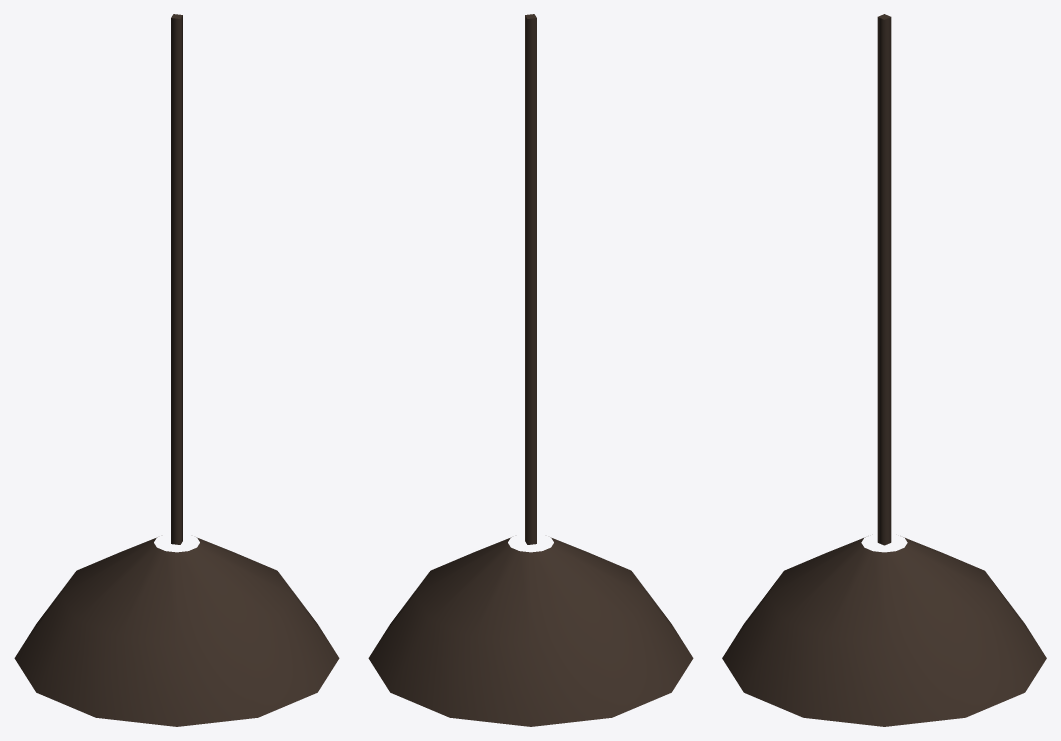
The model's file is cantina_hanging_lamp.glb.
The picture shows the model from 3 angles, left to right: view 1: azimuth 30°, elevation 25°; view 2: azimuth 150°, elevation 25°; view 3: azimuth 270°, elevation 25°; orthographic projection.
Visible parts, largest first — view 1: sw5e_int_cantina_hanging_lamp; view 2: sw5e_int_cantina_hanging_lamp; view 3: sw5e_int_cantina_hanging_lamp.
Part boxes in pixels (box(x1,y1,x2,y2)): sw5e_int_cantina_hanging_lamp: box(14, 14, 339, 726); sw5e_int_cantina_hanging_lamp: box(368, 14, 693, 726); sw5e_int_cantina_hanging_lamp: box(722, 14, 1046, 726).
Bounding box in the file's own units: 0.56 × 1.26 × 0.56.
